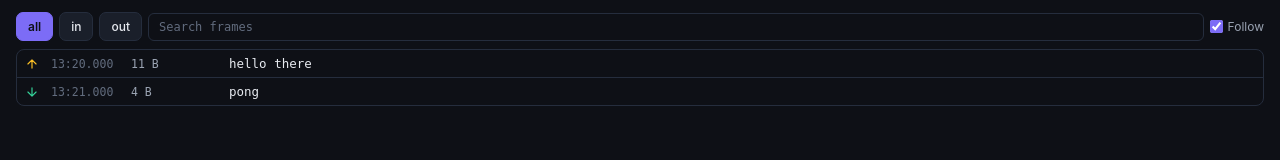
Scenario: search narrows rows
In the field with placeholder "Search frames": [676, 26] box [148, 12, 1204, 40], type "pong"
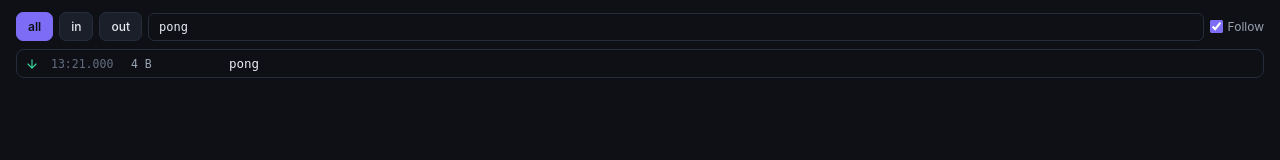
Check: the number of rows is 1, box [25, 56, 259, 71]
